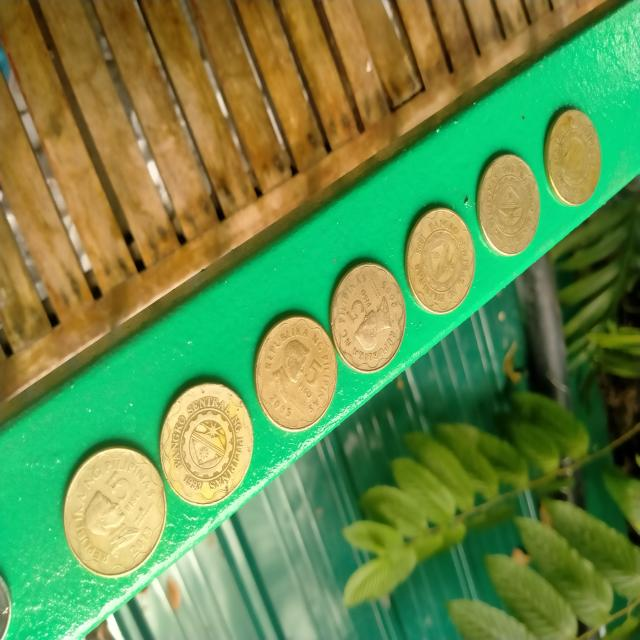5_Old_Back: (163, 396, 244, 494)
5_Old_Front: (340, 281, 402, 356)
